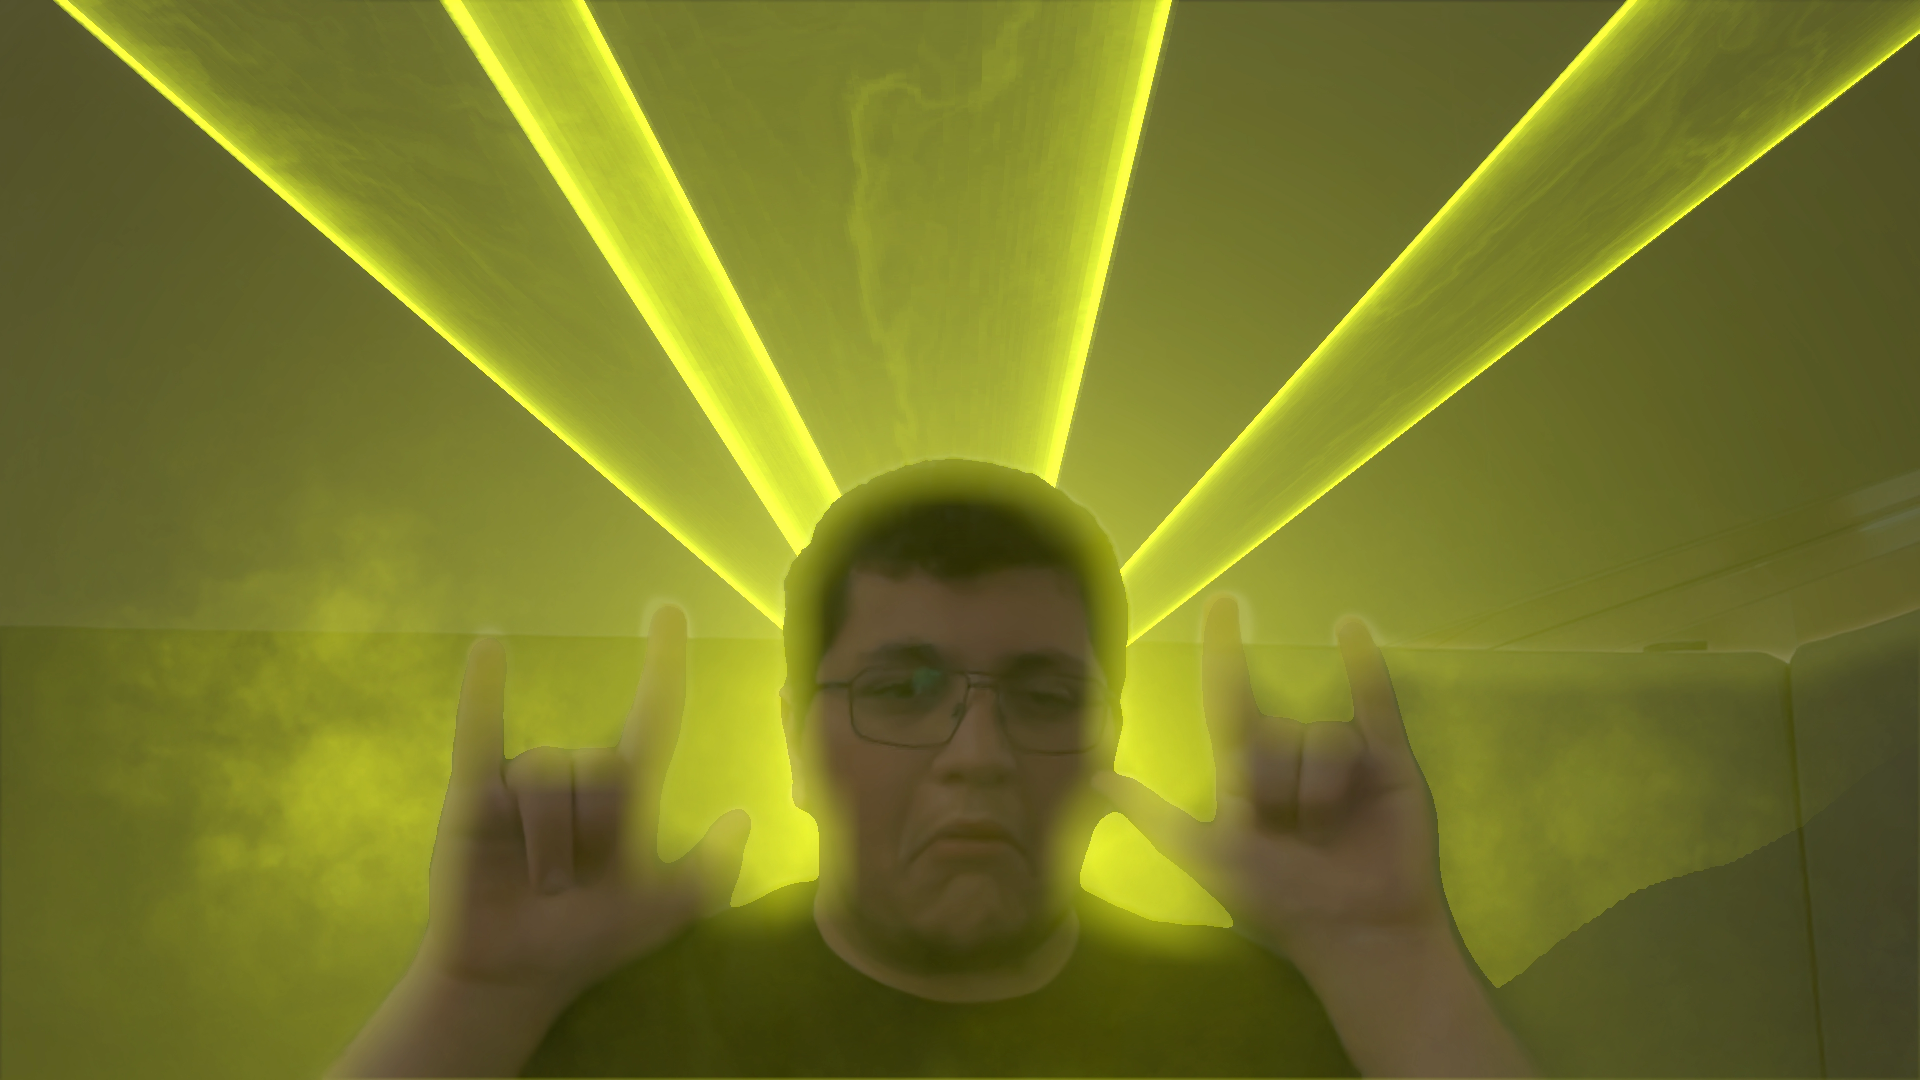i love you: (349, 556, 769, 978), (1146, 517, 1511, 916)
